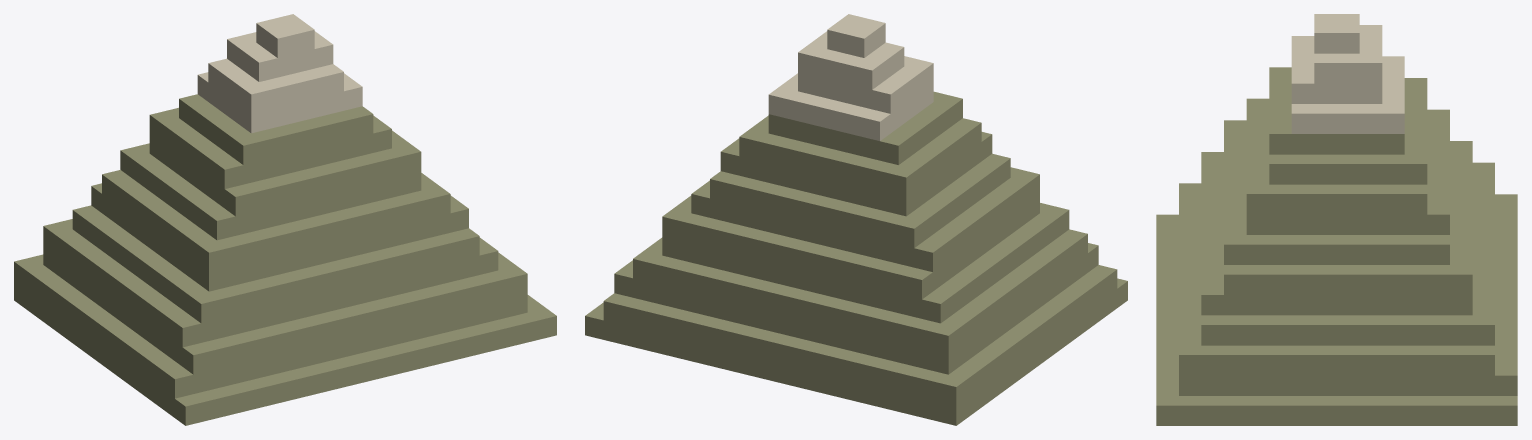
File: chemistry-20.glb
3 views of the same model, side by side, from view 1: azimuth 30°, elevation 25°; view 2: azimuth 150°, elevation 25°; view 3: azimuth 270°, elevation 25° (orthographic). The views are drawn at different scales.
Visible parts, largest first — view 1: Crystal model; view 2: Crystal model; view 3: Crystal model.
Part boxes in pixels (left/top/right/bottom): Crystal model: left=14, top=14, right=556, bottom=425; Crystal model: left=585, top=14, right=1127, bottom=425; Crystal model: left=1156, top=14, right=1517, bottom=425.
Bounding box in the file's own units: 1.6 × 1.2 × 1.28.
